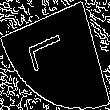L_E: (32, 32, 78, 78)
